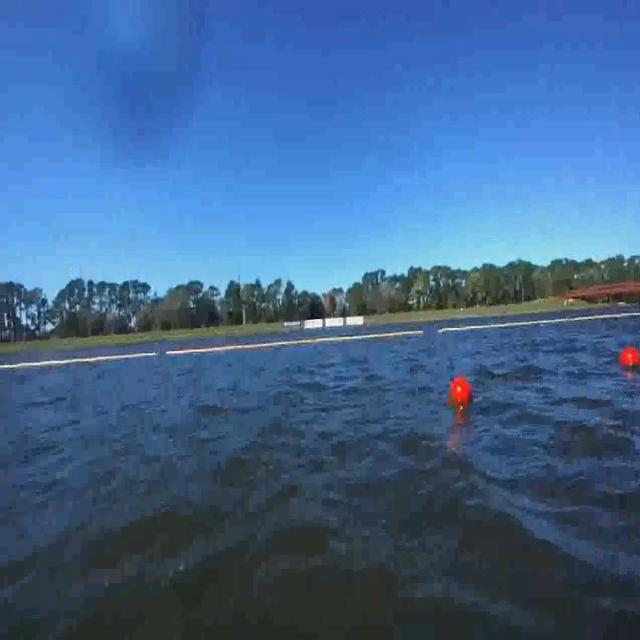red-buoy: (450, 374, 471, 403), (620, 348, 640, 370)
